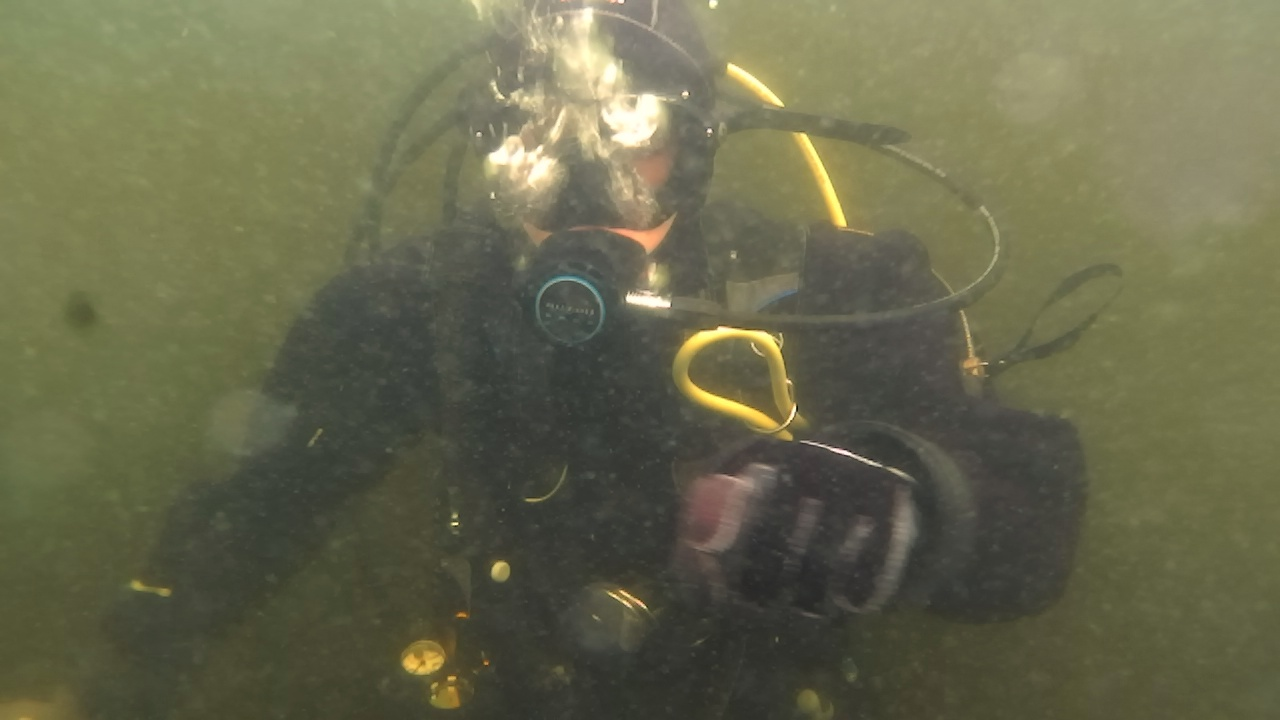Diver: (114, 2, 1176, 714)
Hand: (640, 398, 948, 616)
Head: (446, 20, 718, 336)
